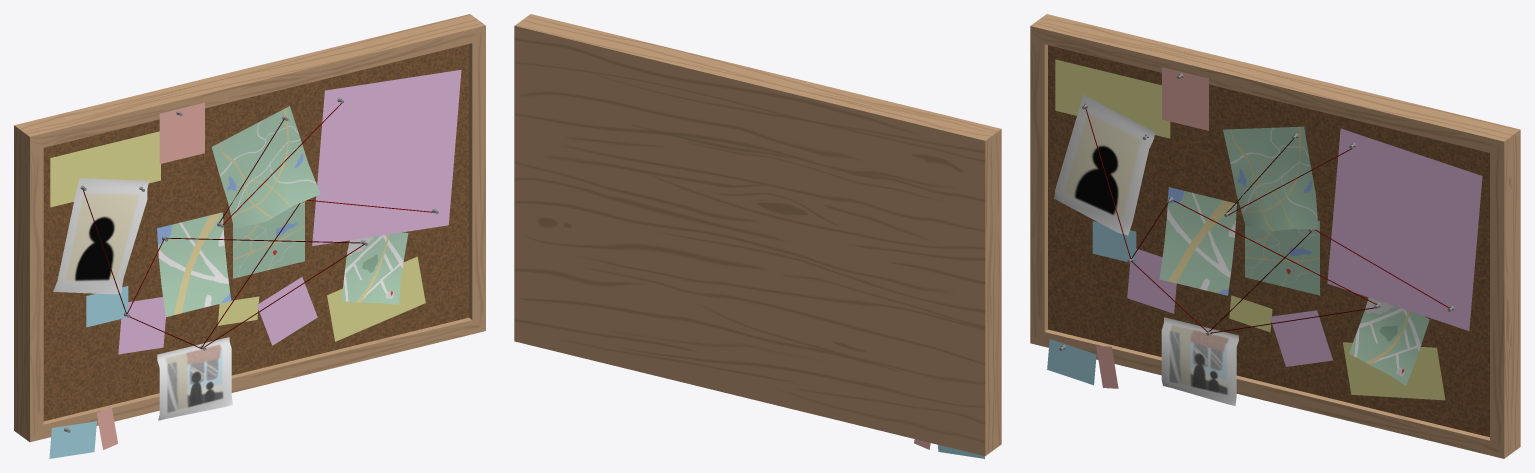
File: Bulletin board.fbx
3 views of the same model, side by side, from view 1: azimuth 30°, elevation 25°; view 2: azimuth 150°, elevation 25°; view 3: azimuth 330°, elevation 25° (orthographic). The views are drawn at different scales.
Visible parts, largest first — view 1: Board001, Paper003, Paper002, Paper001, Line006; view 2: Board001; view 3: Board001, Paper003, Paper002, Paper001, Line006.
Boxes of the visible parts, x1,y1,x2,y2 form: Board001: (14,14,485,442); Paper003: (49,69,461,458); Paper002: (157,106,408,317); Paper001: (53,178,232,420); Line006: (82,103,432,348); Board001: (514,14,1001,456); Board001: (1030,14,1520,458); Paper003: (1047,59,1482,400); Paper002: (1159,126,1429,385); Paper001: (1054,94,1238,405); Line006: (1085,107,1449,333).
Size of the model in its own units: 98.43 by 67.97 by 8.46.
6 materials, 4 textured.
